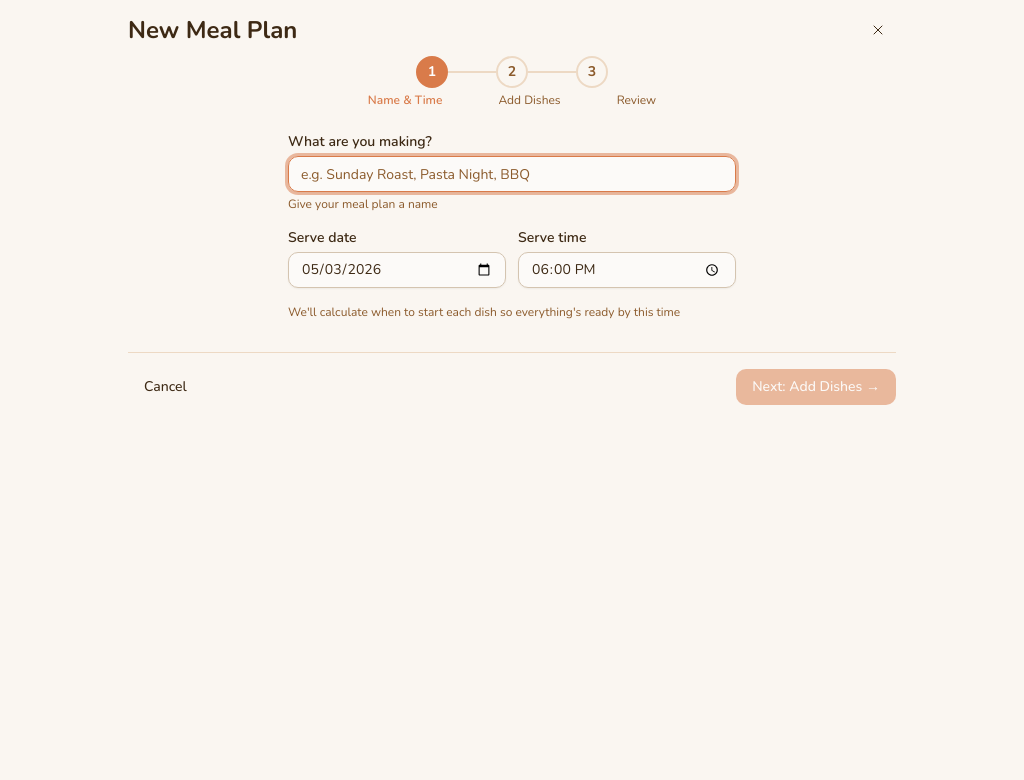
Test: CreatePlanWizard › Step 3 — Review › shows review with items and timeline
This screenshot has width=1024, height=780.
Type "Sunday Roast" into the field labelled "What are you making?".
click(512, 174); type("Sunday Roast")  # box left=288, top=156, right=736, bottom=192
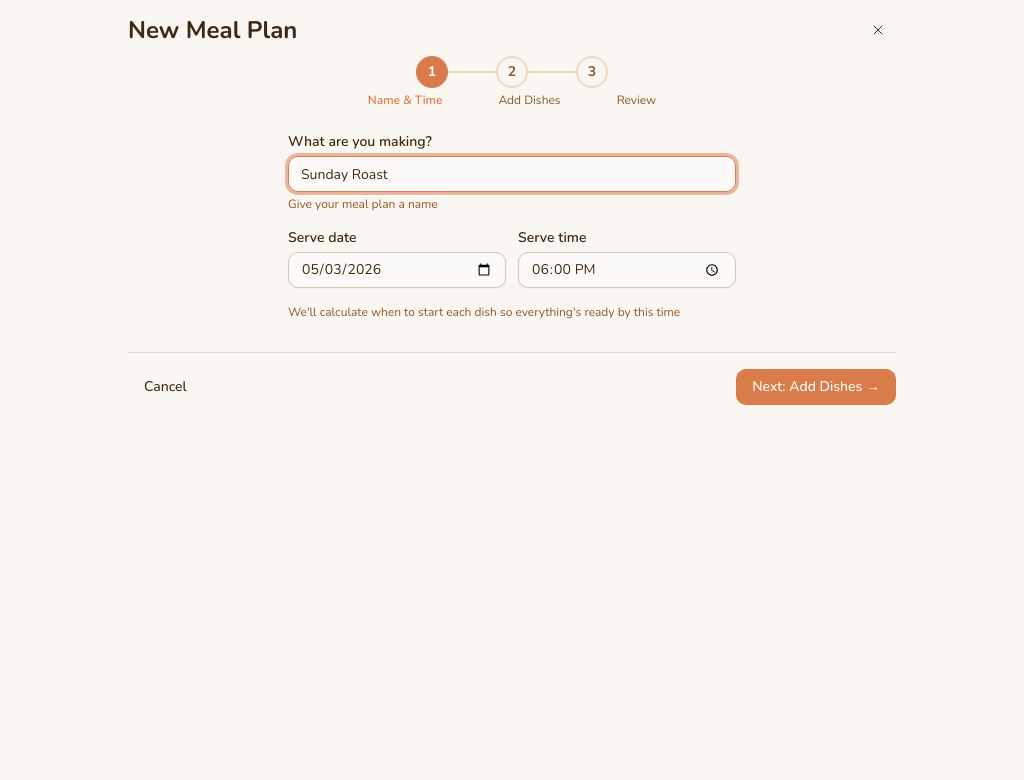
Click the button "Next: Add Dishes →".
click(816, 387)  # box left=736, top=369, right=896, bottom=405
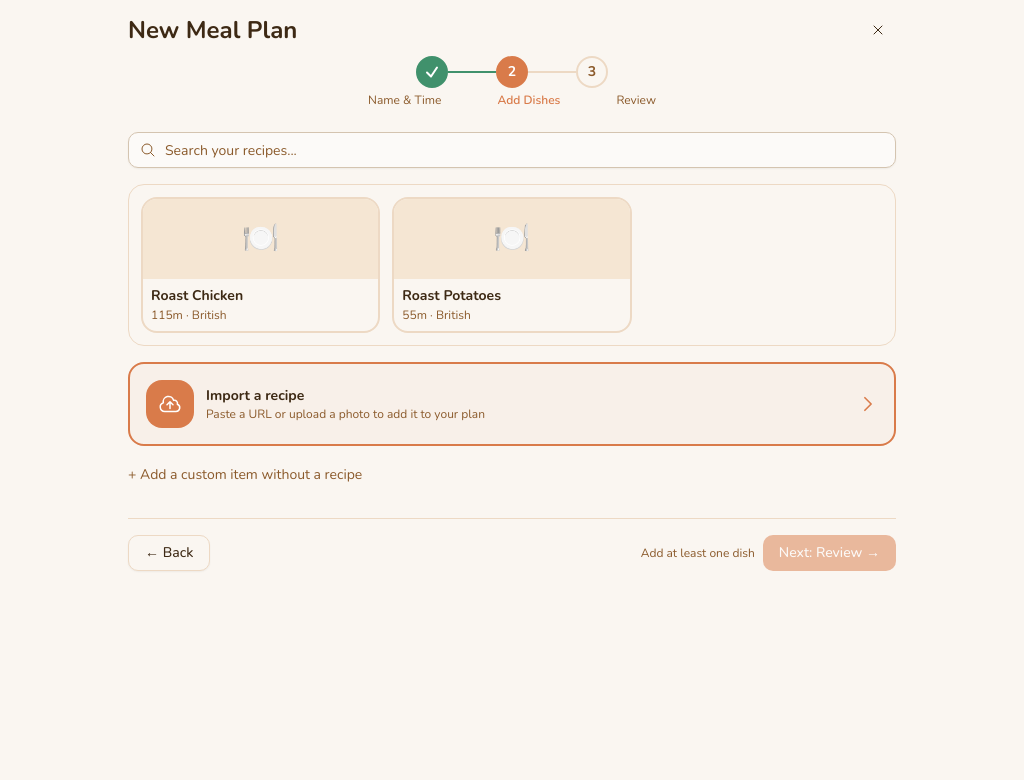
Click the button with aria-label "Add Roast Chicken to plan".
click(261, 265)  # box left=141, top=197, right=380, bottom=332
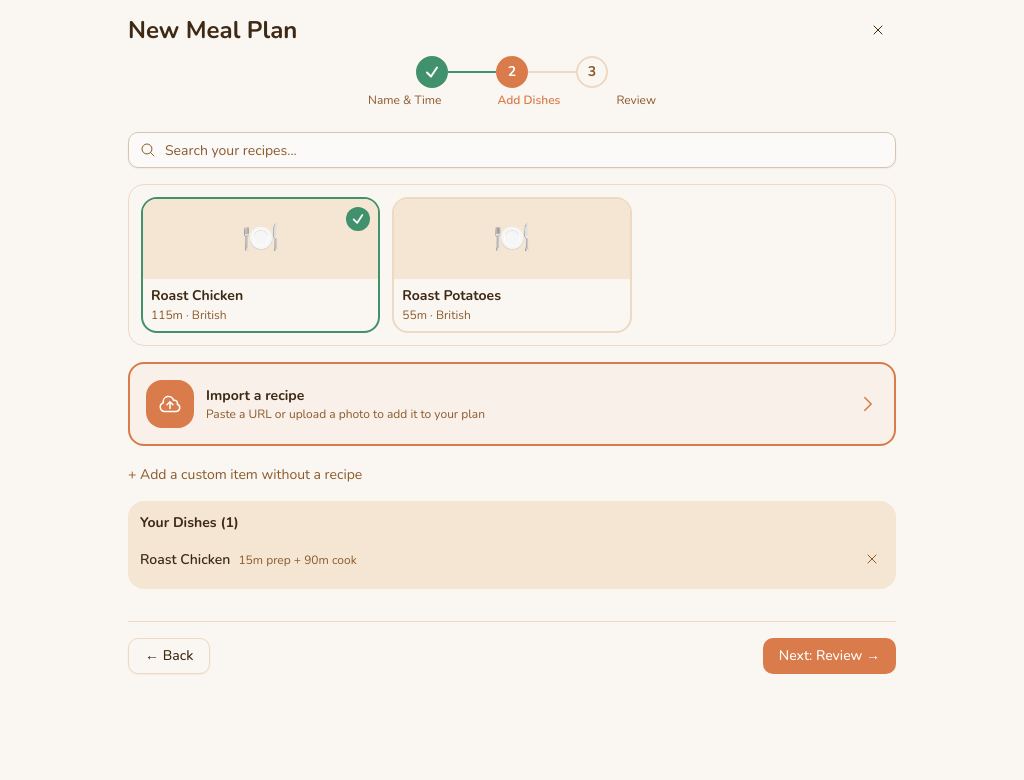
Click the button with aria-label "Add Roast Potatoes to plan".
click(512, 265)  # box left=392, top=197, right=632, bottom=332
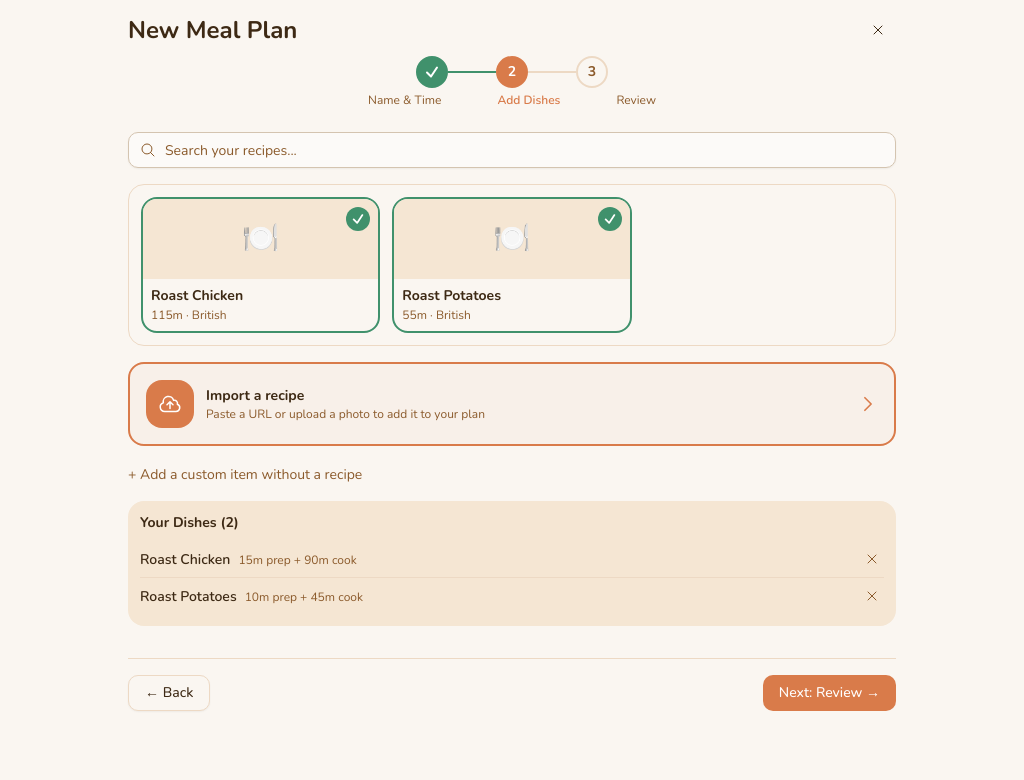
Click the button "Next: Review →".
click(829, 692)  # box left=763, top=674, right=896, bottom=710
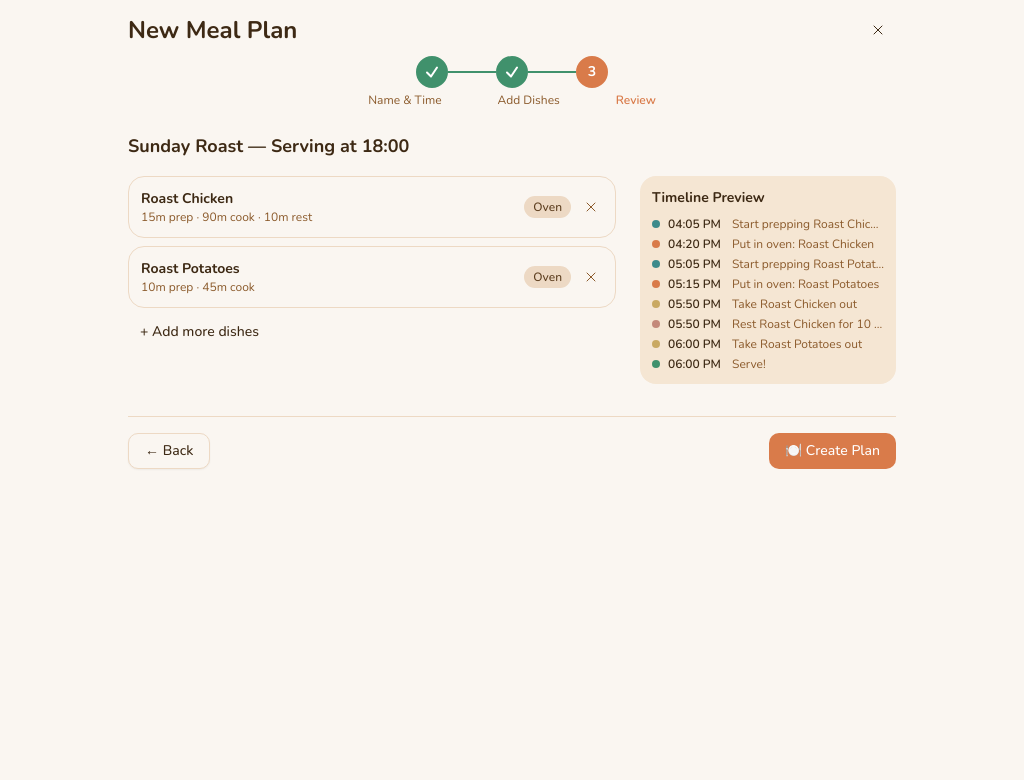
Check: the text "Roast Chicken" is shown, box left=141, top=189, right=233, bottom=208
Check: the text "Roast Potatoes" is shown, box left=141, top=259, right=255, bottom=279
Check: the heading "Sunday Roast — Serving at 18:00" is shown, box left=128, top=134, right=409, bottom=158
